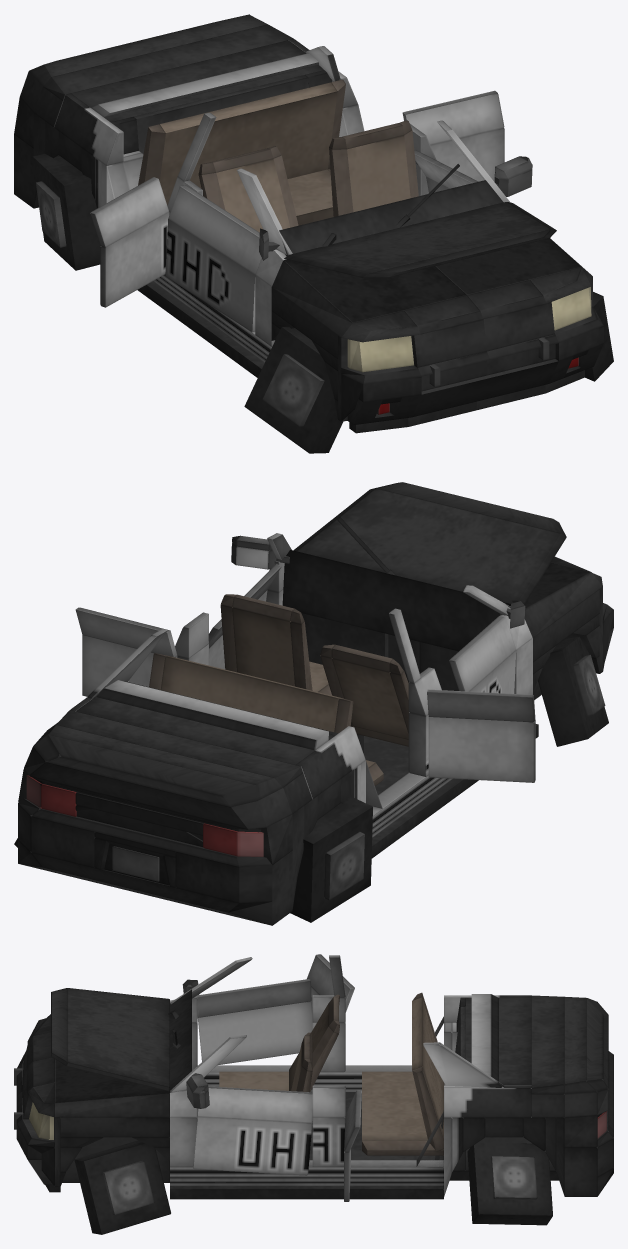
File: wreckage_police2.obj
The picture shows the model from 3 angles, top to bottom: view 1: azimuth 30°, elevation 25°; view 2: azimuth 150°, elevation 25°; view 3: azimuth 270°, elevation 25°; orthographic projection. The views are drawn at different scales.
Visible parts, largest first — view 1: yourclassnameModel78, yourclassnameModel172, yourclassnameModel4, yourclassnameModel142, yourclassnameModel100, yourclassnameModel186, yourclassnameModel175, yourclassnameModel158, yourclassnameModel177, yourclassnameModel24, yourclassnameModel189, yourclassnameModel187 (+58 smaller); view 2: yourclassnameModel172, yourclassnameModel100, yourclassnameModel189, yourclassnameModel78, yourclassnameModel161, yourclassnameModel177, yourclassnameModel148, yourclassnameModel147, yourclassnameModel158, yourclassnameModel142, yourclassnameModel175, yourclassnameModel162 (+45 smaller); view 3: yourclassnameModel172, yourclassnameModel182, yourclassnameModel118, yourclassnameModel186, yourclassnameModel2, yourclassnameModel176, yourclassnameModel24, yourclassnameModel174, yourclassnameModel76, yourclassnameModel183, yourclassnameModel158, yourclassnameModel142 (+53 smaller).
Part boxes in pixels (x1,y1,x2,y2): yourclassnameModel78: (160,82,337,205); yourclassnameModel172: (284,202,556,277); yourclassnameModel4: (272,259,466,337); yourclassnameModel142: (71,40,323,122); yourclassnameModel100: (279,180,503,256); yourclassnameModel186: (165,219,255,332); yourclassnameModel175: (244,326,343,453); yourclassnameModel158: (43,24,293,100); yourclassnameModel177: (32,153,100,270); yourclassnameModel24: (435,238,590,294); yourclassnameModel189: (100,212,169,307); yourclassnameModel187: (168,185,261,274); yourclassnameModel172: (293,488,566,606); yourclassnameModel100: (282,550,510,651); yourclassnameModel189: (428,717,535,782); yourclassnameModel78: (160,656,343,731); yourclassnameModel161: (33,734,257,807); yourclassnameModel177: (290,796,372,922); yourclassnameModel148: (96,680,328,750); yourclassnameModel147: (24,747,266,829); yourclassnameModel158: (49,710,302,787); yourclassnameModel142: (76,696,334,765); yourclassnameModel175: (538,636,608,746); yourclassnameModel162: (18,840,272,925); yourclassnameModel172: (67,988,169,1091); yourclassnameModel182: (193,1117,312,1175); yourclassnameModel118: (170,1160,443,1185); yourclassnameModel186: (197,1001,312,1065); yourclassnameModel2: (170,1092,443,1199); yourclassnameModel176: (467,1142,552,1225); yourclassnameModel24: (55,1059,169,1117); yourclassnameModel174: (74,1140,170,1234); yourclassnameModel76: (362,1071,427,1140); yourclassnameModel183: (197,1086,312,1123); yourclassnameModel158: (531,995,564,1093); yourclassnameModel142: (466,997,531,1085).
Bounding box in the file's own units: 4.68 × 2.3 × 6.84.
1 material, 1 textured.
